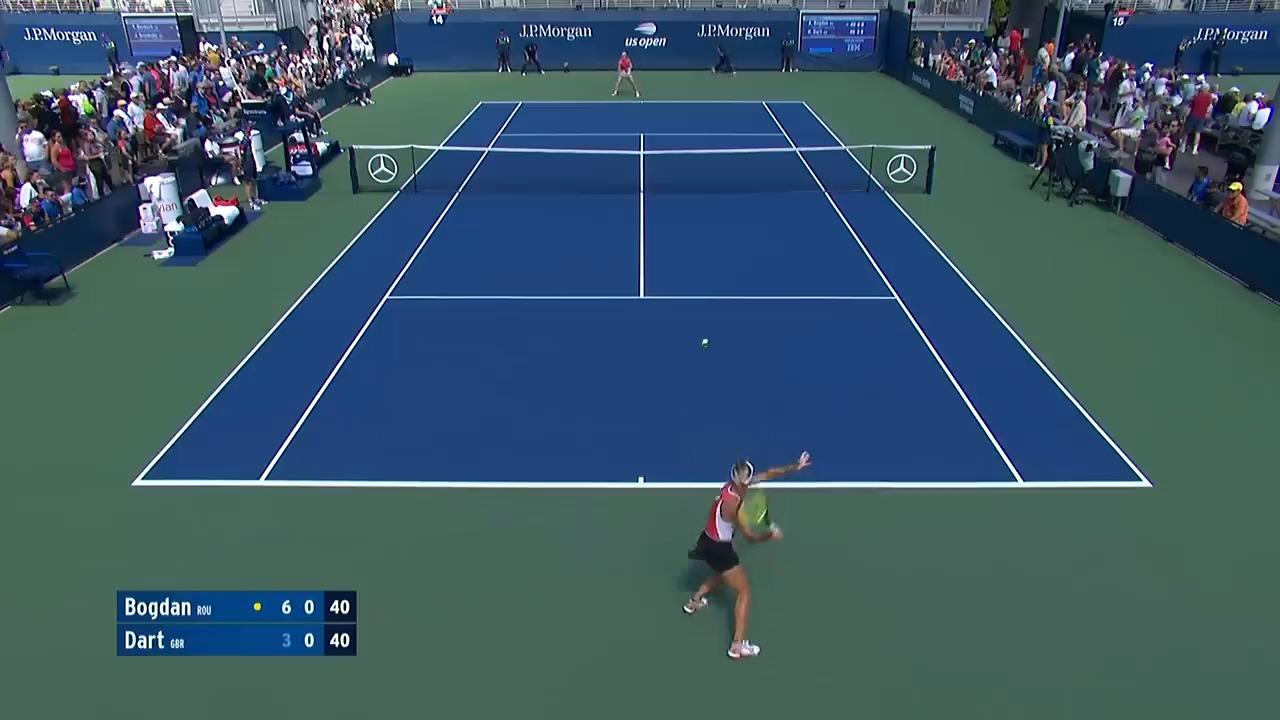tennis ball: (703, 339, 710, 346)
